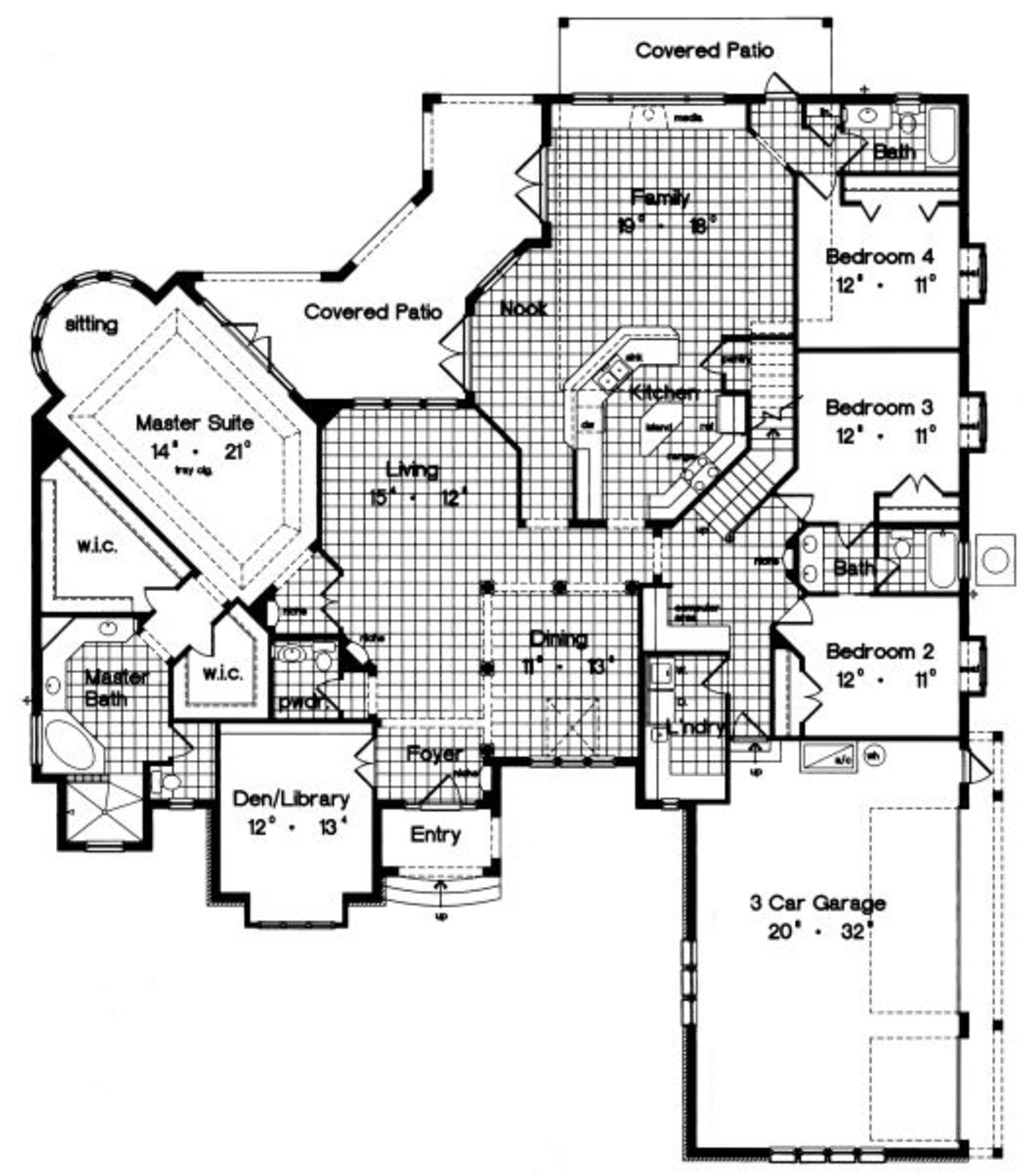door: (769, 646, 842, 724), (425, 312, 482, 393), (505, 142, 555, 228), (224, 313, 287, 373), (876, 466, 949, 513), (744, 52, 807, 101), (769, 588, 833, 632), (309, 575, 355, 633), (787, 162, 844, 206), (178, 621, 227, 670), (129, 577, 182, 621), (832, 506, 888, 546), (695, 652, 736, 702), (864, 552, 904, 597), (835, 121, 869, 168), (780, 482, 822, 517)
kitchen_bar: (509, 286, 704, 504)
large_sink: (129, 752, 191, 808)
small_sink: (53, 610, 138, 650), (38, 655, 85, 713)
stairs: (696, 332, 818, 568)
tub: (922, 104, 976, 172), (920, 522, 958, 599)
twin_sink: (575, 339, 644, 402)
window: (1, 246, 135, 370)
